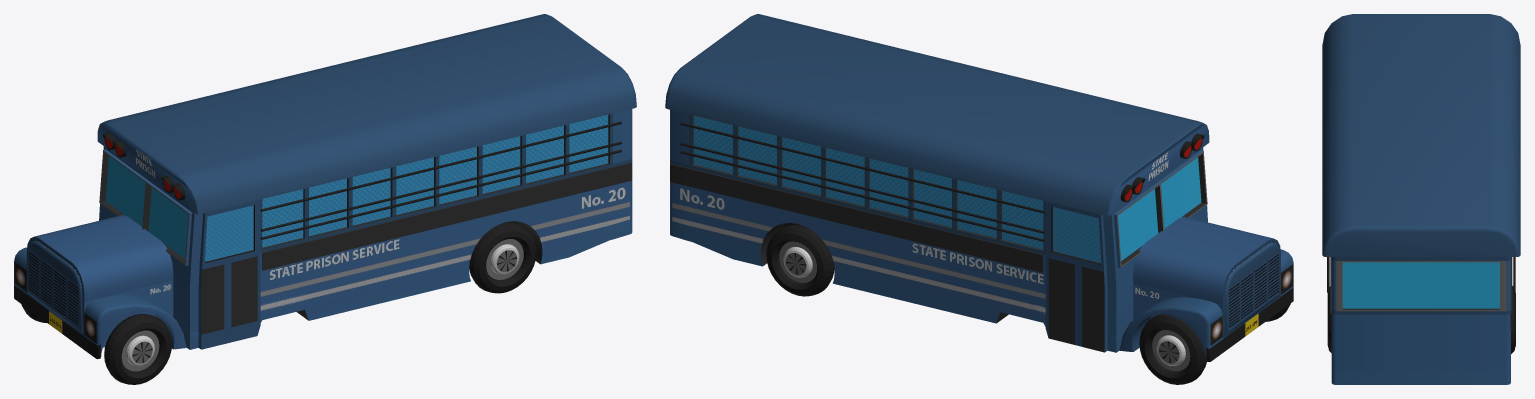
Rendered from prison bus.fbx.
3 renders of one model, left to right at view 1: azimuth 30°, elevation 25°; view 2: azimuth 150°, elevation 25°; view 3: azimuth 270°, elevation 25°, orthographic. The views are drawn at different scales.
Parts seen in each view (by area): view 1: bus, door R, tyre 3, tyre 4; view 2: bus, door L, tyre 2, tyre 1; view 3: bus, tyre 2, tyre 4.
Part boxes in pixels (x1,y1,x2,y2): bus: (14, 14, 636, 359); door R: (199, 199, 260, 349); tyre 3: (104, 313, 171, 384); tyre 4: (469, 222, 536, 293); bus: (665, 14, 1293, 361); door L: (1045, 201, 1106, 352); tyre 2: (766, 224, 834, 296); tyre 1: (1139, 314, 1206, 384); bus: (1322, 14, 1520, 384); tyre 2: (1511, 286, 1515, 353); tyre 4: (1327, 286, 1331, 352).
Bounding box in the file's own units: 680 × 230 × 221.
1 material, 1 textured.
